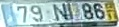6: (92, 2, 105, 20)
7: (15, 5, 27, 24)
8: (80, 1, 94, 21)
9: (29, 3, 43, 24)
I: (66, 2, 74, 20)
N: (51, 2, 69, 21)
